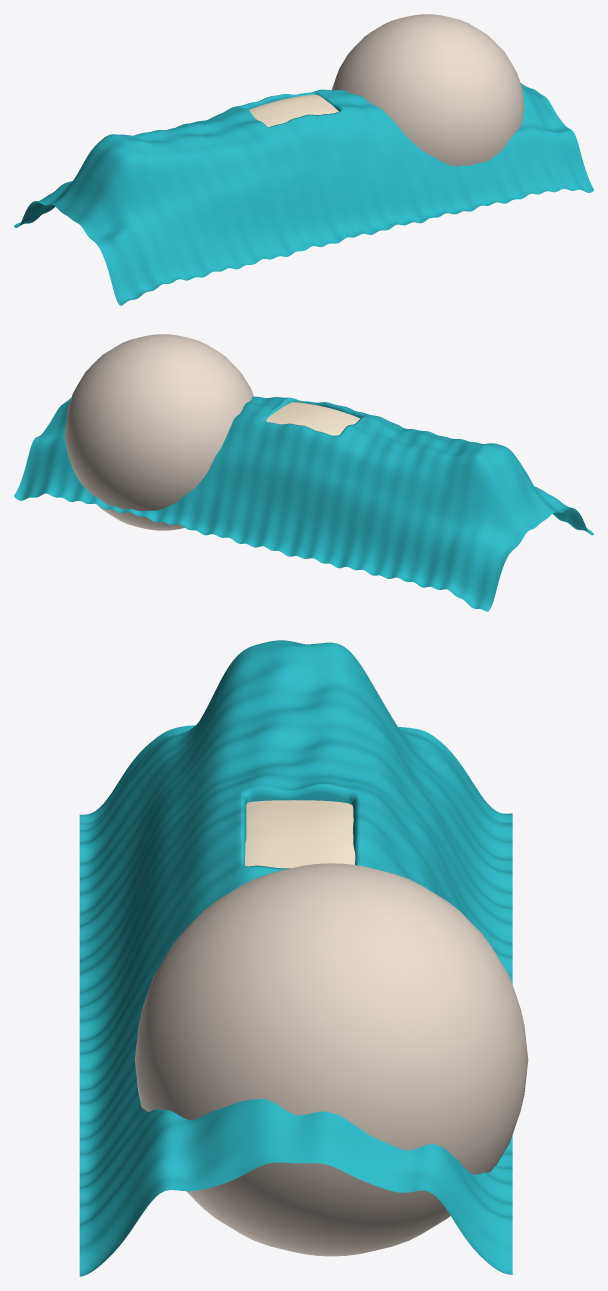
The picture shows the model from 3 angles, top to bottom: view 1: azimuth 30°, elevation 25°; view 2: azimuth 150°, elevation 25°; view 3: azimuth 270°, elevation 25°; orthographic projection. The views are drawn at different scales.
Visible parts, largest first — view 1: blue_green_surgical_drape_over_simple_patient_form, hidden_leg_mound_right, yellow_orange_abdominal_window_visible_skin_antiseptic; view 2: blue_green_surgical_drape_over_simple_patient_form, hidden_leg_mound_right, yellow_orange_abdominal_window_visible_skin_antiseptic; view 3: blue_green_surgical_drape_over_simple_patient_form, hidden_leg_mound_right, yellow_orange_abdominal_window_visible_skin_antiseptic.
Boxes of the visible parts, <box> form: blue_green_surgical_drape_over_simple_patient_form: <box>14,83,593,305</box>; hidden_leg_mound_right: <box>332,14,524,166</box>; yellow_orange_abdominal_window_visible_skin_antiseptic: <box>249,94,338,126</box>; blue_green_surgical_drape_over_simple_patient_form: <box>14,396,593,611</box>; hidden_leg_mound_right: <box>65,334,253,530</box>; yellow_orange_abdominal_window_visible_skin_antiseptic: <box>266,402,359,435</box>; blue_green_surgical_drape_over_simple_patient_form: <box>79,640,512,1276</box>; hidden_leg_mound_right: <box>134,863,528,1256</box>; yellow_orange_abdominal_window_visible_skin_antiseptic: <box>245,800,355,868</box>.
Size of the model in its own units: 556 by 200 by 228.
